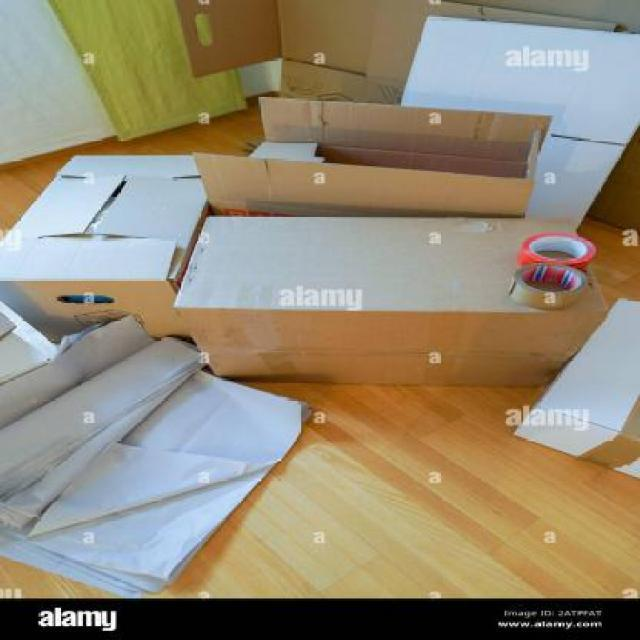box: (178, 214, 602, 396), (207, 98, 544, 231), (0, 154, 211, 342), (514, 296, 640, 476)
